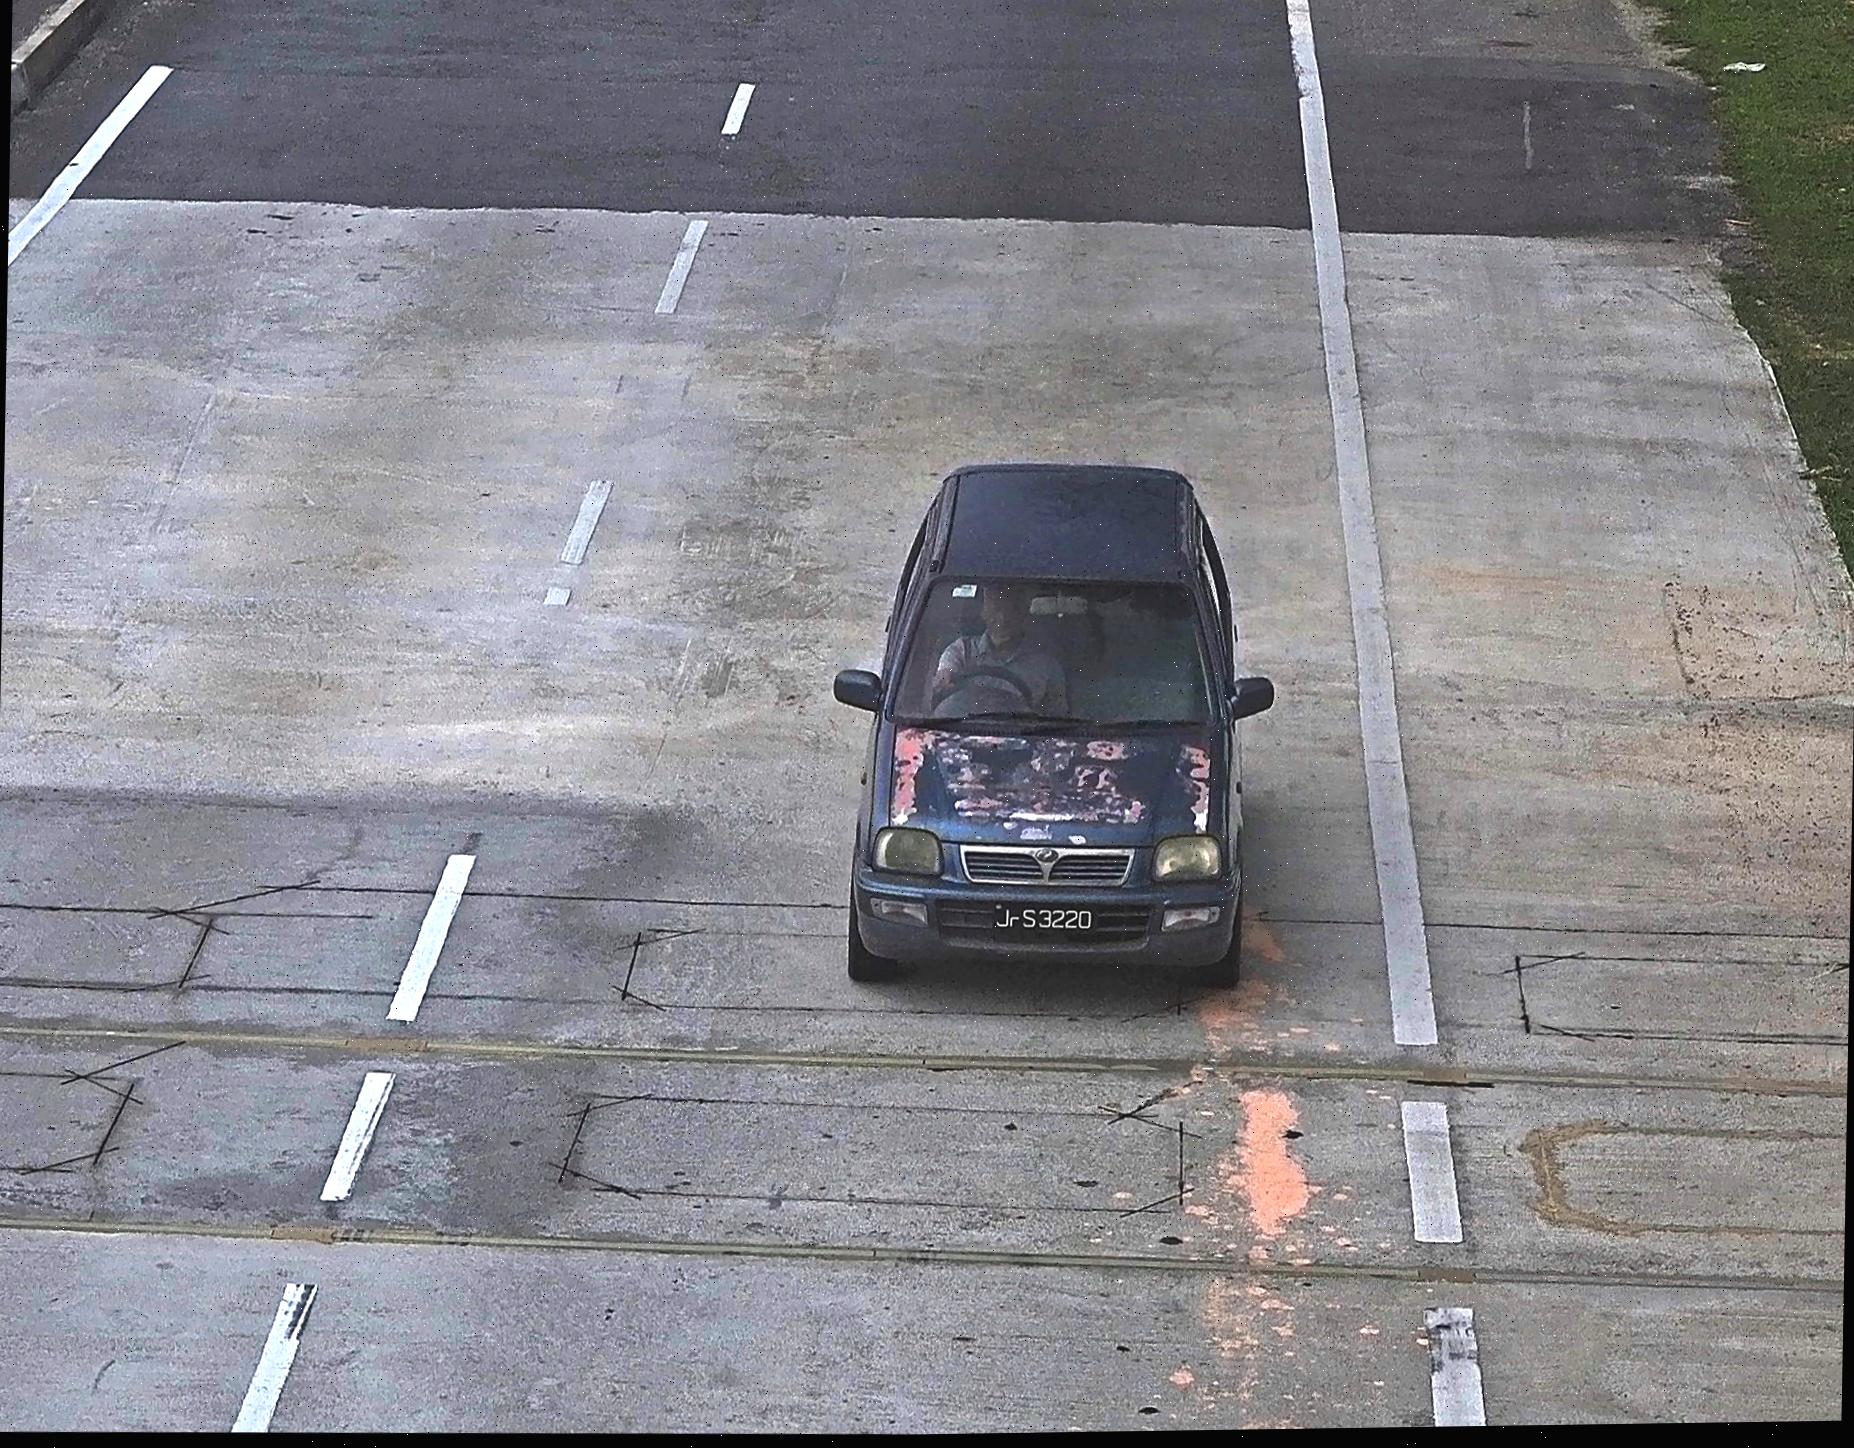non broken: (989, 896, 1096, 936)
